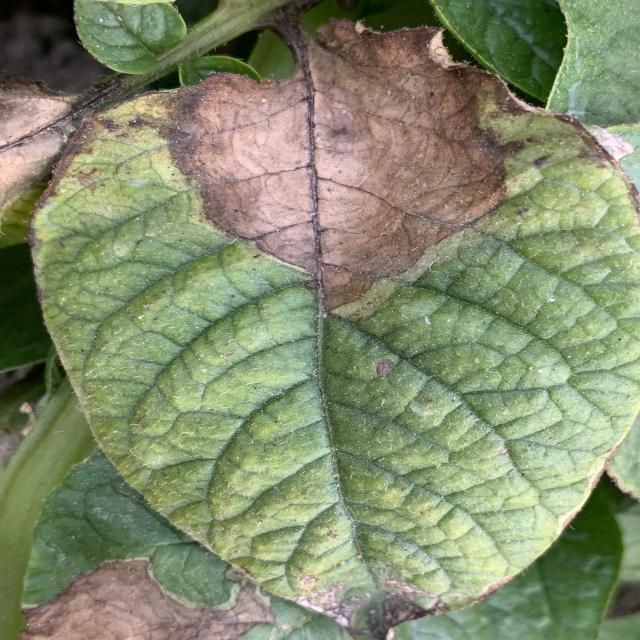lateblight: (75, 20, 610, 310), (22, 558, 273, 640), (268, 548, 447, 636)
